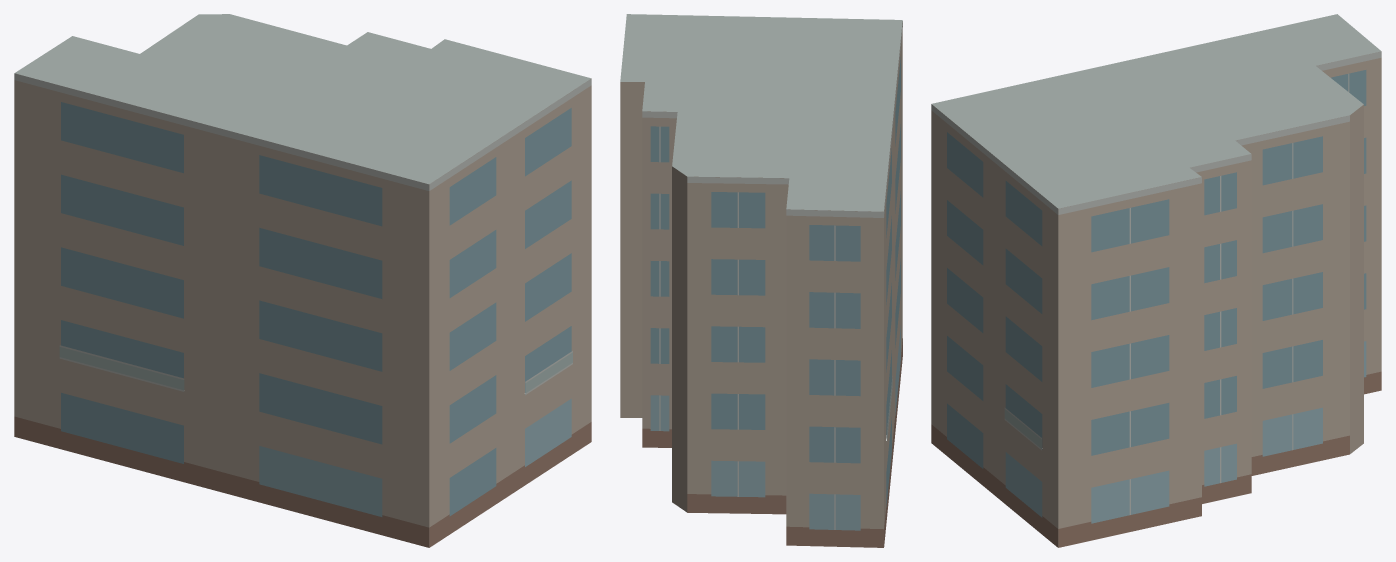
Rendered from survey-upis-32957529.glb.
3 renders of one model, left to right at view 1: azimuth 30°, elevation 25°; view 2: azimuth 150°, elevation 25°; view 3: azimuth 270°, elevation 25°, orthographic. The views are drawn at different scales.
Visible parts, largest first — view 1: survey-upis-32957529.tmp; view 2: survey-upis-32957529.tmp; view 3: survey-upis-32957529.tmp.
Boxes of the visible parts, x1=… form: survey-upis-32957529.tmp: x1=14, y1=14, x2=591, y2=547; survey-upis-32957529.tmp: x1=620, y1=14, x2=902, y2=547; survey-upis-32957529.tmp: x1=931, y1=14, x2=1381, y2=547.
Bounding box in the file's own units: 16.02 × 13 × 15.66.
